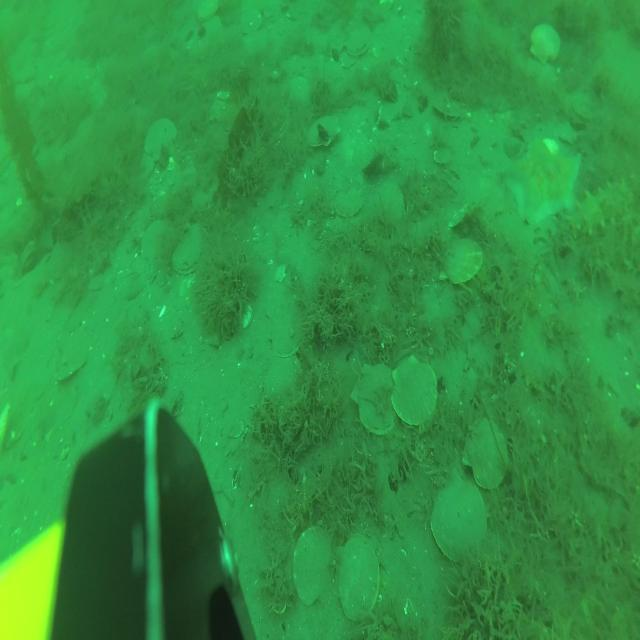holothurian: (573, 162, 640, 245)
scallop: (430, 478, 488, 564), (352, 366, 402, 441), (338, 538, 381, 623), (462, 418, 508, 494), (294, 526, 334, 608), (392, 358, 439, 427), (444, 238, 485, 290), (172, 231, 205, 278), (530, 20, 564, 65), (377, 178, 407, 228), (307, 112, 341, 153), (142, 220, 171, 266), (144, 122, 175, 158), (334, 185, 365, 220), (54, 357, 89, 385), (434, 95, 464, 127), (569, 92, 597, 126), (344, 28, 374, 59), (240, 4, 263, 35), (195, 1, 221, 24)
starfish: (501, 133, 584, 240)
